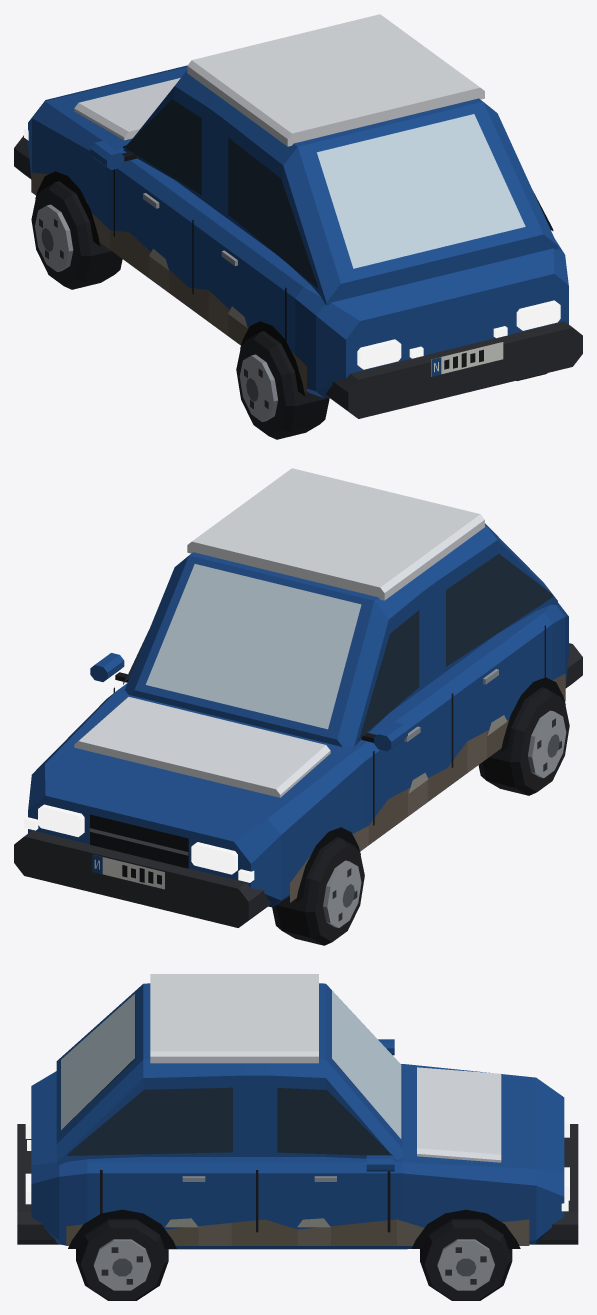
The model's file is hatch.glb.
3 renders of one model, top to bottom at view 1: azimuth 30°, elevation 25°; view 2: azimuth 150°, elevation 25°; view 3: azimuth 270°, elevation 25°, orthographic. The views are drawn at different scales.
Visible parts, largest first — view 1: body.001, wheel_RL.001, wheel_FL.001; view 2: body.001, wheel_FL.001, wheel_RL.001; view 3: body.001, wheel_RR.001, wheel_FR.001.
Boxes of the visible parts, x1,y1,x2,y2 form: body.001: (14, 14, 582, 418); wheel_RL.001: (236, 331, 329, 439); wheel_FL.001: (31, 181, 122, 289); body.001: (14, 468, 582, 927); wheel_FL.001: (272, 837, 364, 945); wheel_RL.001: (478, 687, 569, 795); body.001: (17, 974, 578, 1249); wheel_RR.001: (76, 1219, 168, 1300); wheel_FR.001: (420, 1219, 512, 1300).
Bounding box in the file's own units: 2.08 × 1.83 × 4.06.
